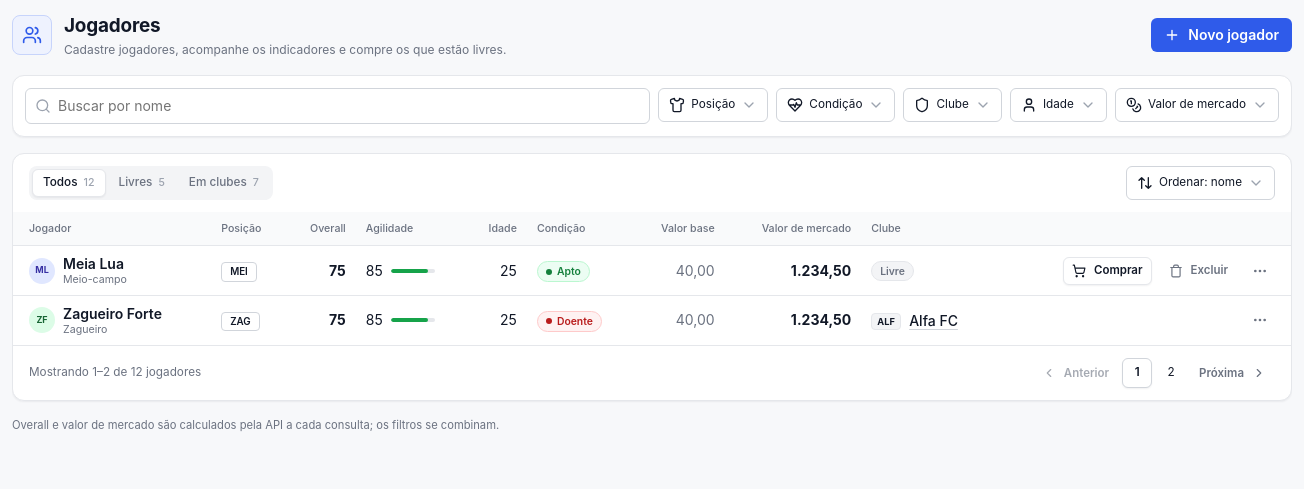
Test: PlayersPage list › clears filters, search, tab, sort and page with "Limpar filtros"
Expected: the button "Meia Lua" is shown, [63, 255, 124, 273]
Click the button "Ordenar: nome".
click(1200, 183)  # box [1126, 166, 1275, 200]
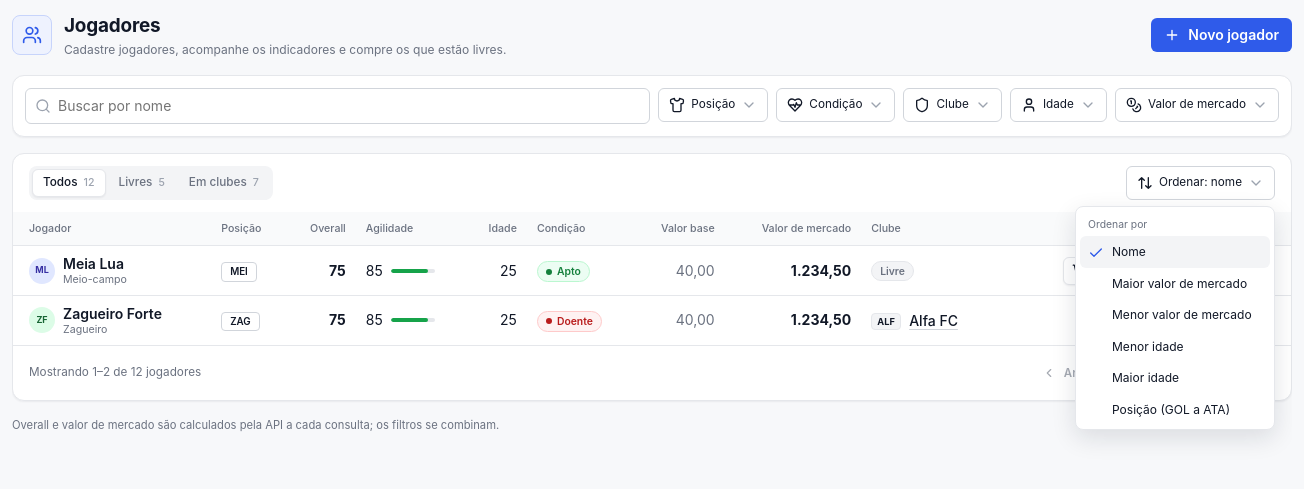
Click the menu item "Menor idade".
click(1175, 347)  # box [1080, 331, 1270, 362]
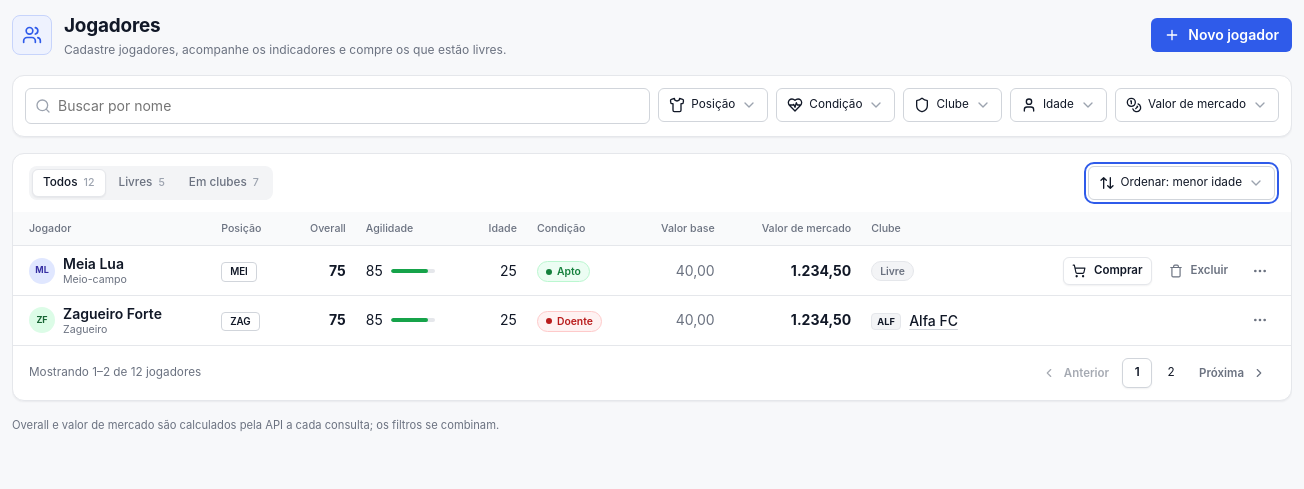
Click the button "Posição".
click(713, 105)  # box [658, 88, 768, 122]
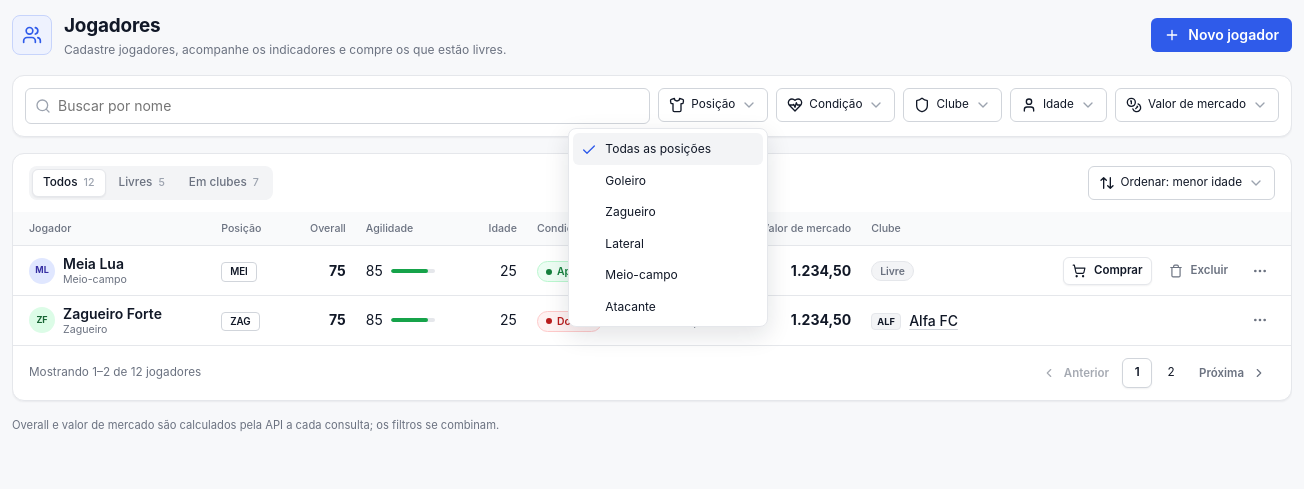
Click the menu item "Atacante".
click(668, 306)  # box [573, 291, 763, 322]
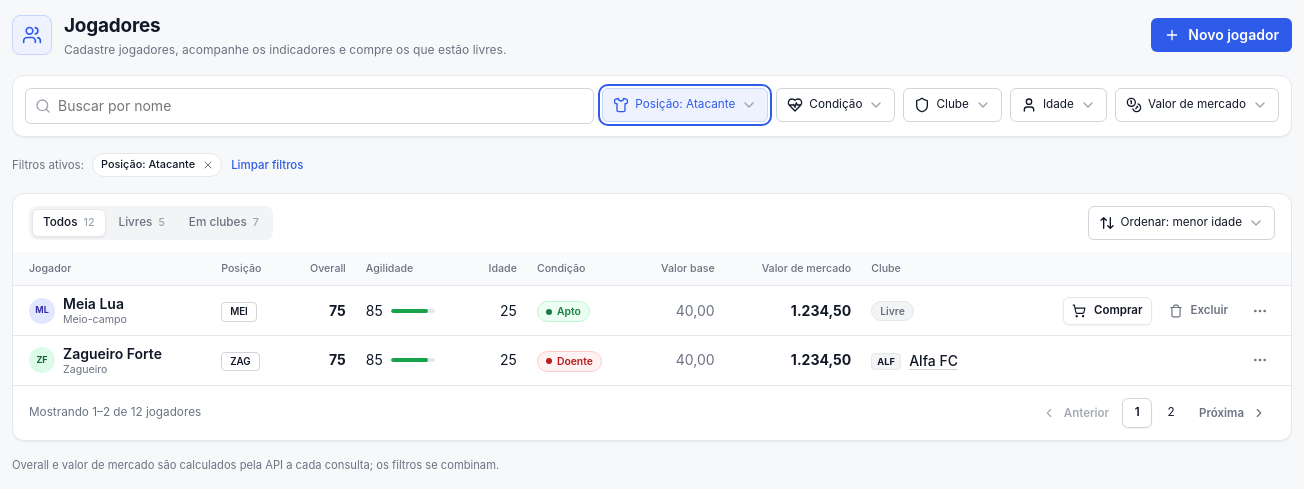
Click the radio button labelled "Em clubes 7".
click(224, 223)  # box [178, 209, 270, 237]
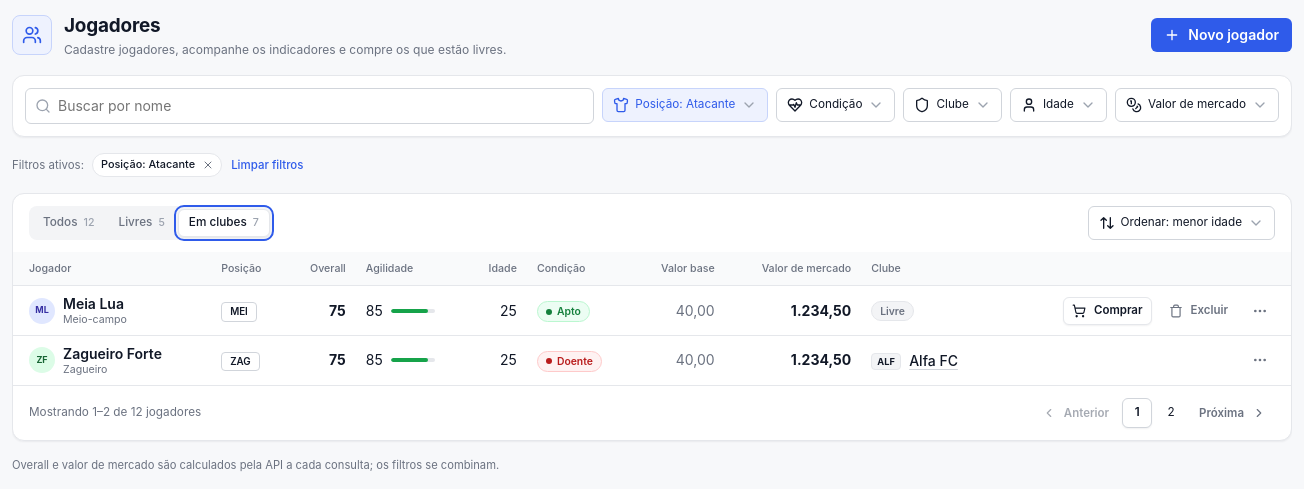
Click the button "Limpar filtros".
click(267, 165)  # box [230, 156, 304, 174]
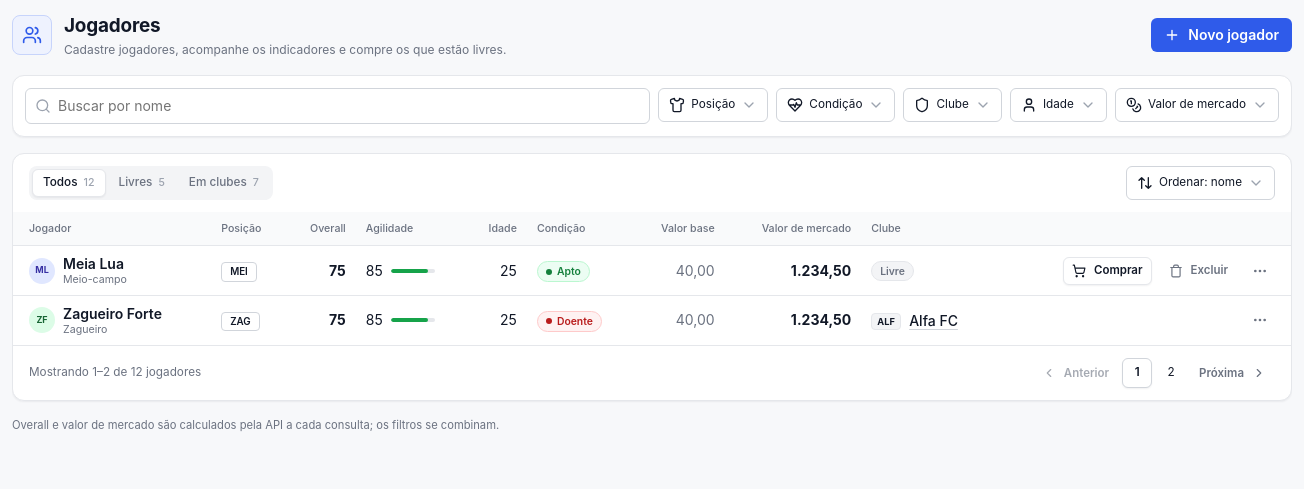
Result: the button "Ordenar: nome" is shown at [1126, 166, 1275, 200]
Result: the radio button labelled "Todos 12" is checked at [32, 169, 106, 197]
